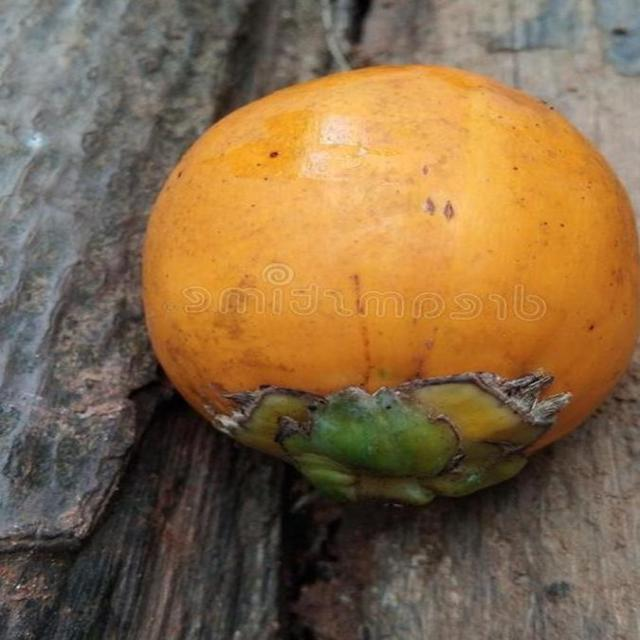good: (142, 65, 639, 508)
